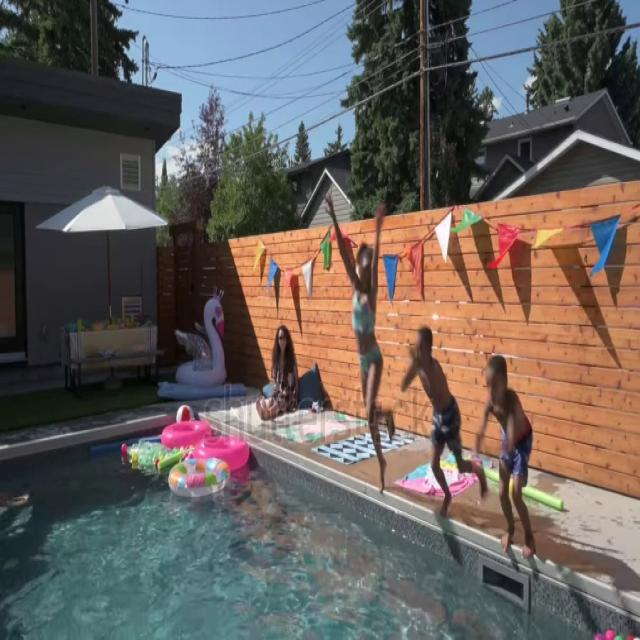adult: (257, 325, 297, 426)
child: (322, 189, 394, 493), (402, 324, 487, 532), (476, 351, 537, 559)
